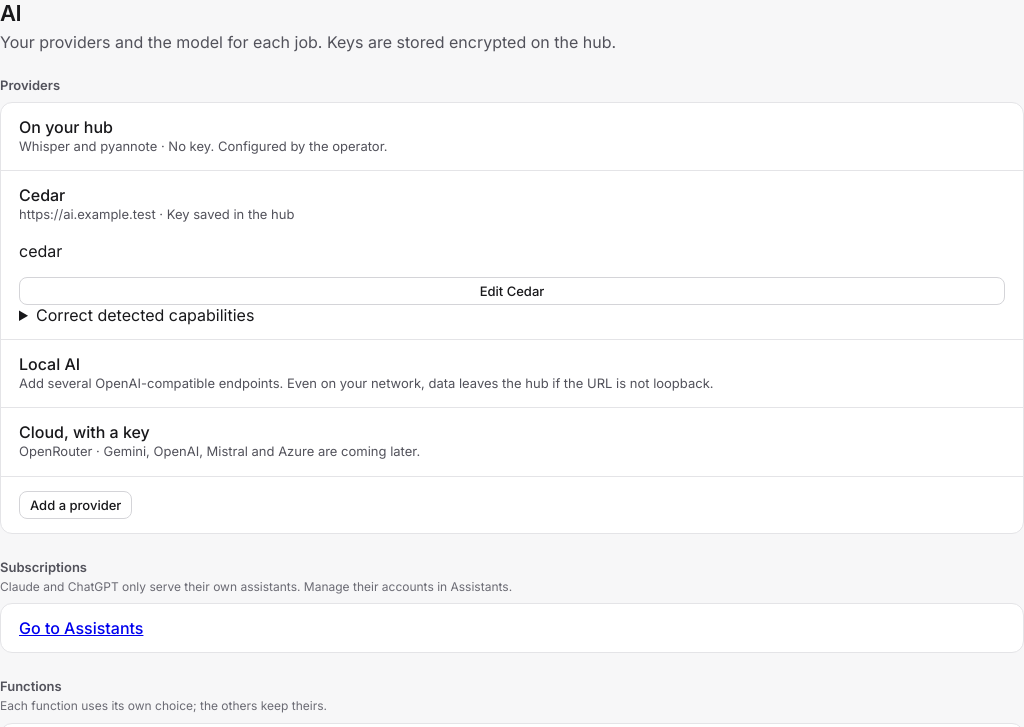
Test: renders AI settings, model capabilities and the provider editor in English
Expected: the text "Cedar" is shown, [19,185,65,205]
Click the button "Edit Cedar" at (512, 291), box [19,277,1005,305]
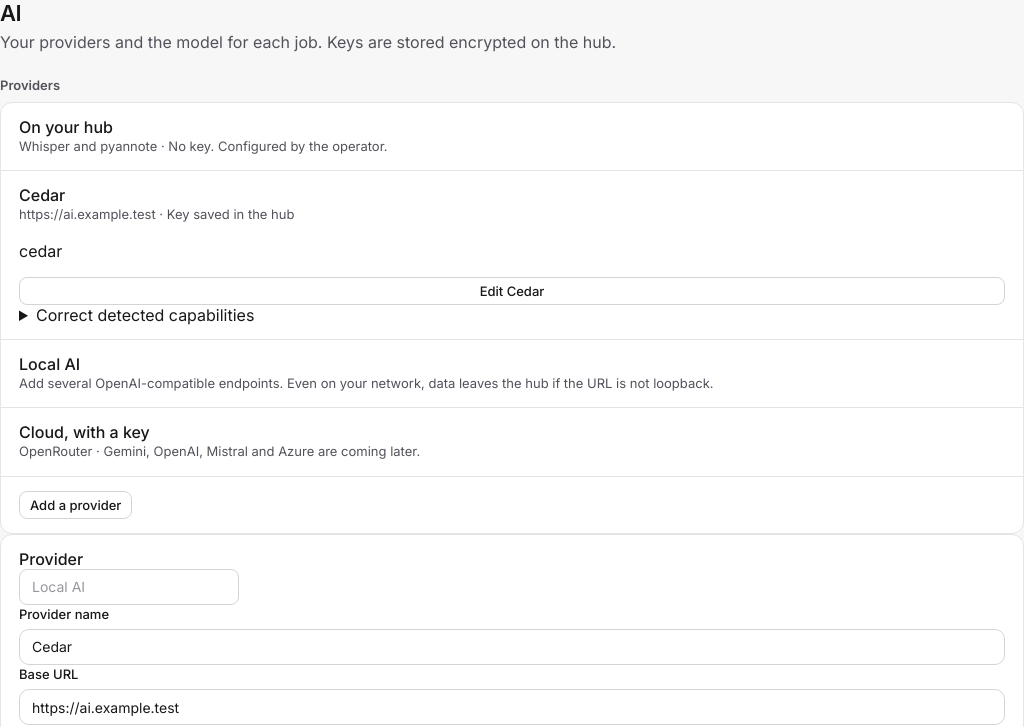
Result: the dropdown named "Provider type" is shown at [20,570,238,604]
